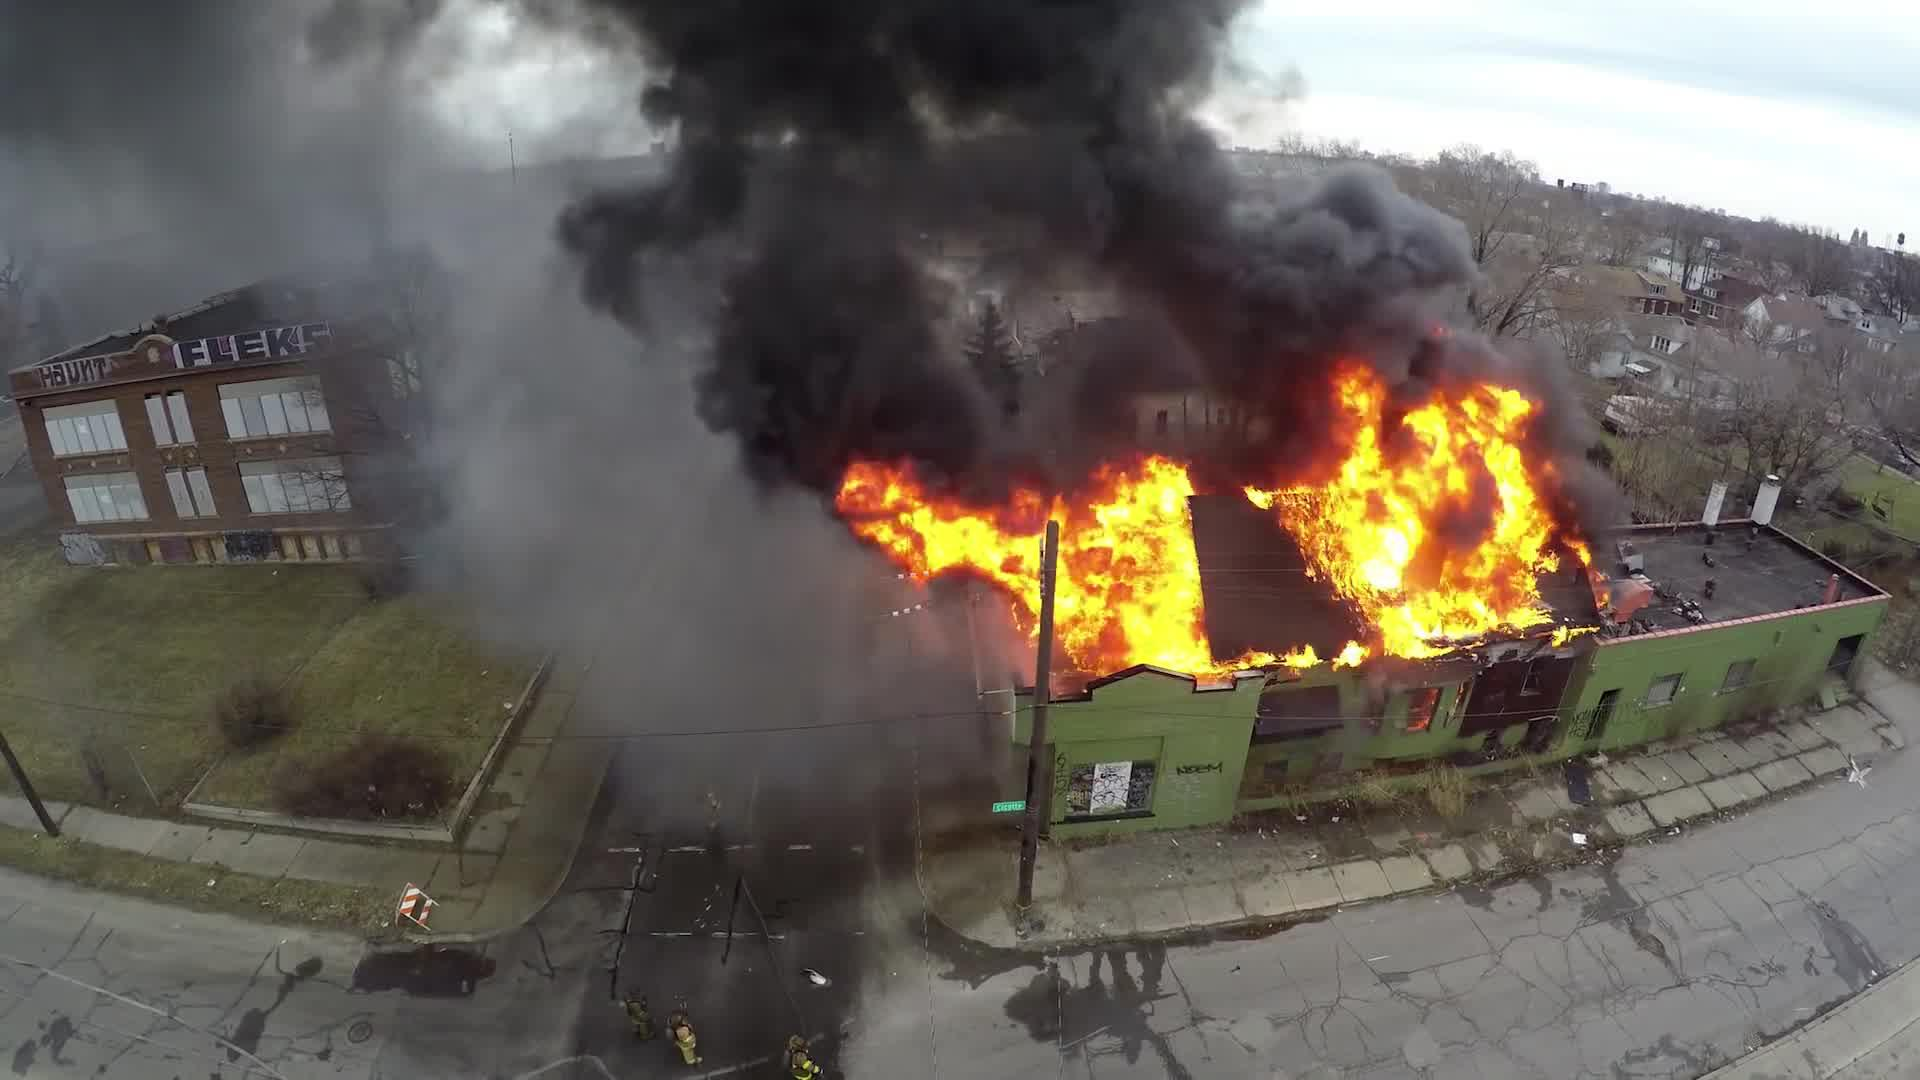fire: (861, 473, 1216, 676), (1325, 390, 1563, 638)
